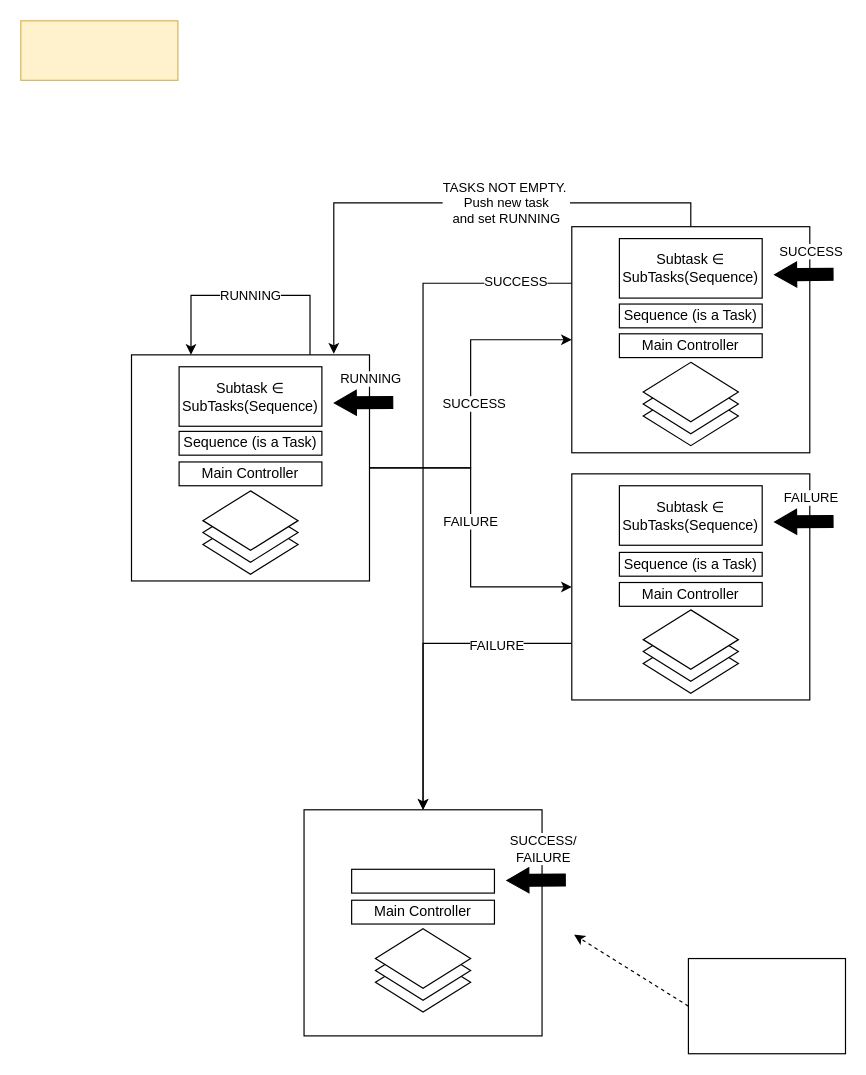
Some shapes in this 866 by 1075 pixel diagram are drawn without their labels. The shapes that lost their labels are listed below. From the top down, each one's box as (x1, y1, x2, y2) in pixels, then its label:
(20, 20, 178, 80): Sequence Composite as Non-Root Task
(350, 868, 494, 893): Sequence
(687, 957, 845, 1054): It is up to the main controller to decide what to do with the status message.
